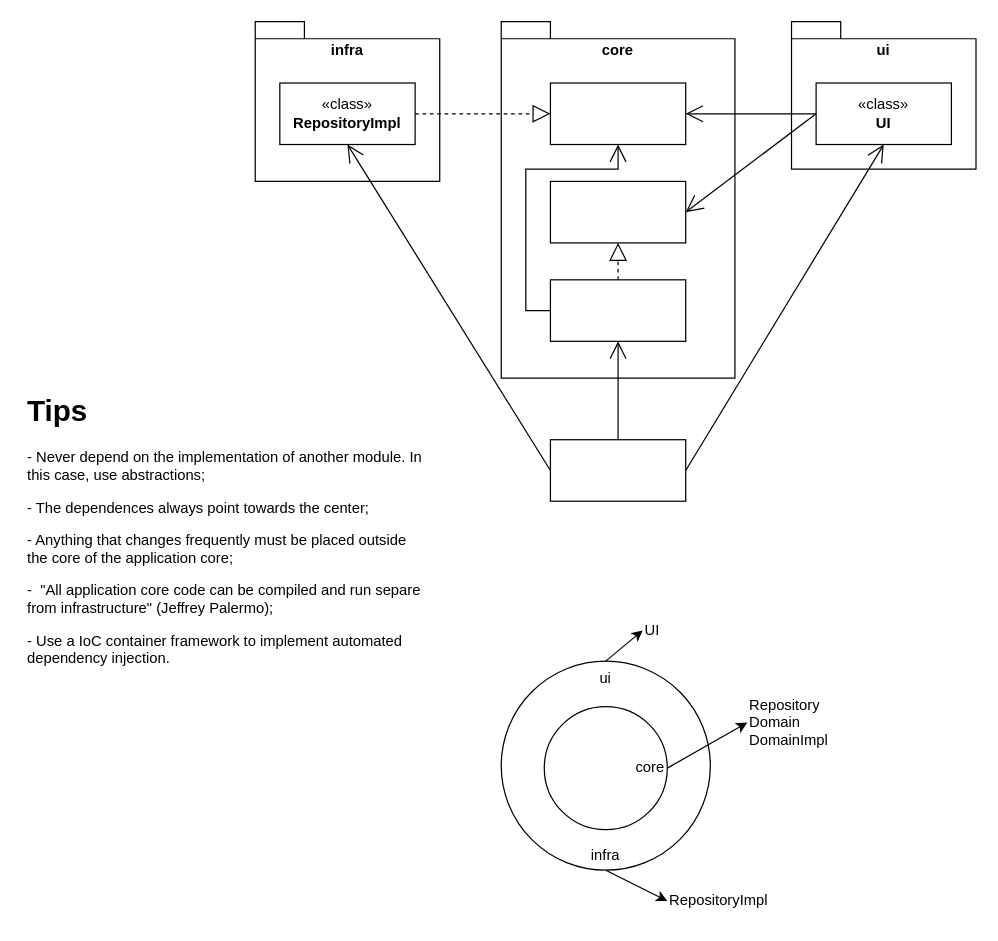
Some shapes in this 998 by 941 pixel diagram are drawn without their labels. The shapes that lost their labels are listed below. From the top down, each one's centre as x and y in pixels, then its label:
(x=617, y=113): «interface» Repository
(x=617, y=211): «interface» Domain
(x=617, y=310): «class» DomainImpl
(x=617, y=469): main
